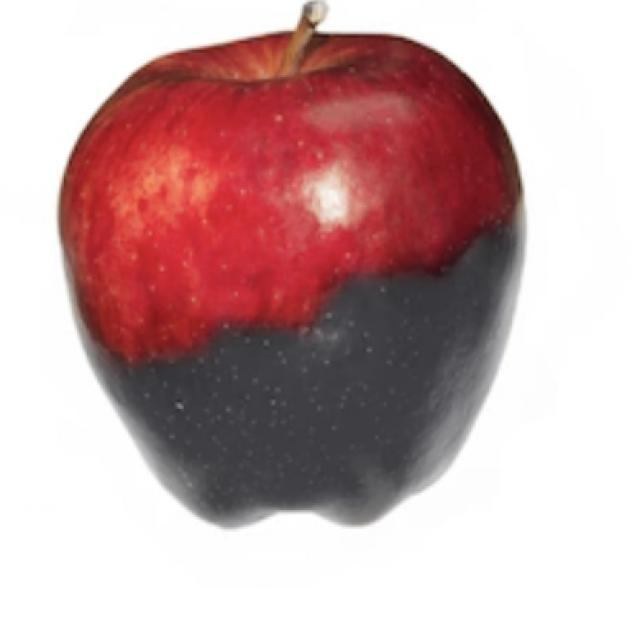Rotten: (70, 31, 527, 516)
